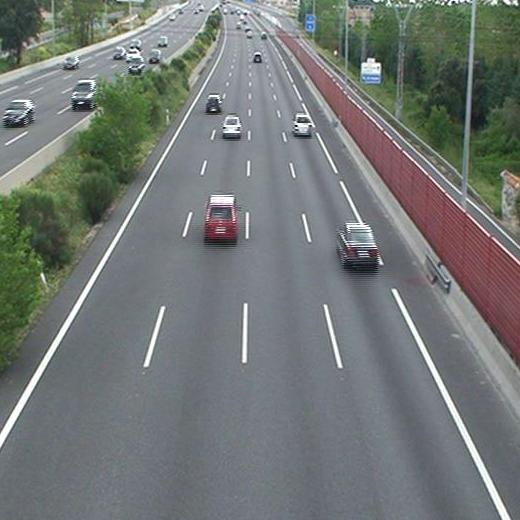car: (337, 224, 377, 266), (203, 195, 237, 237), (222, 116, 242, 137), (293, 115, 313, 135), (206, 95, 222, 112), (253, 53, 261, 62)
